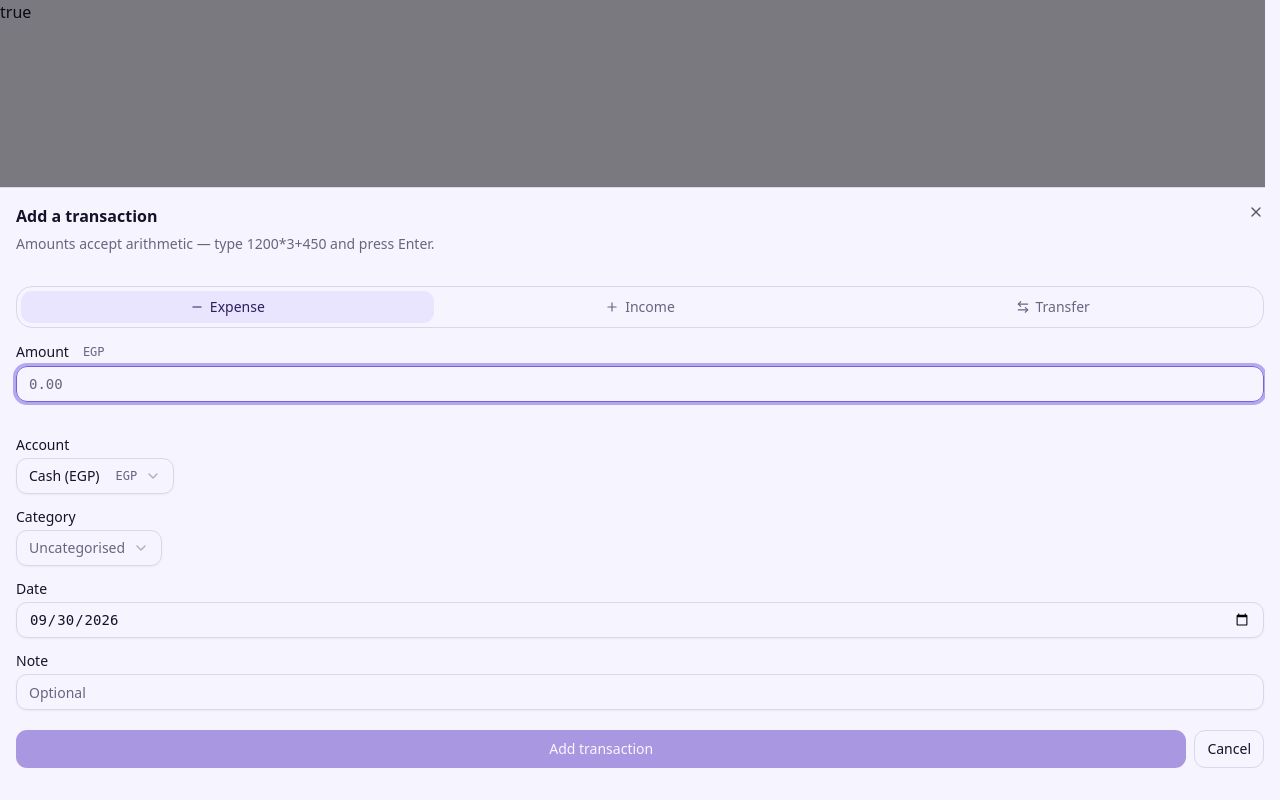
Scenario: switching mode › drops the category field for a transfer — a transfer is excluded from every category total (D2)
The image size is (1280, 800).
expect the field labelled "Amount EGP" is shown: met, box left=16, top=366, right=1264, bottom=402
expect the dropdown labelled "Cash (EGP) EGP" is shown: met, box left=16, top=458, right=174, bottom=494
Click the button "Transfer" at (1053, 307), box left=846, top=291, right=1259, bottom=323
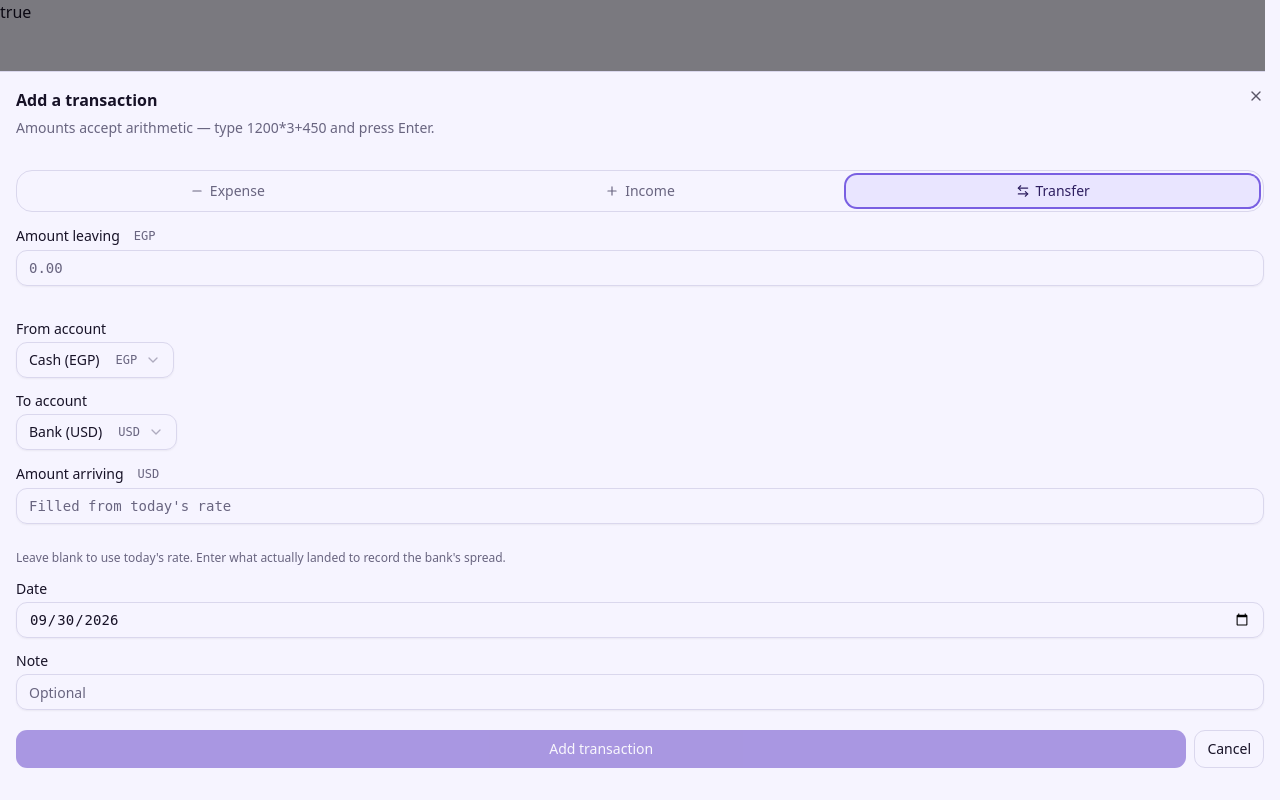
expect the label labelled "Category" is gone: met
expect the dropdown named "To account" is shown: met, box left=16, top=414, right=177, bottom=450
